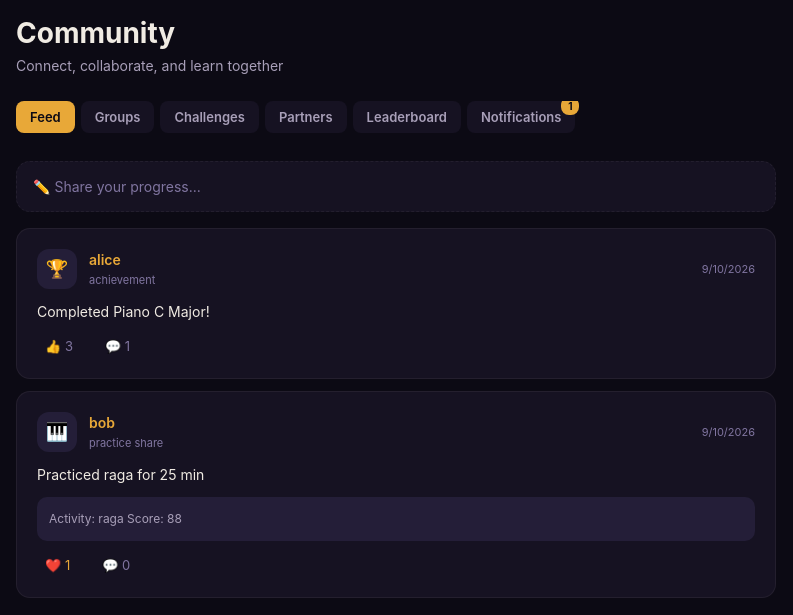
Test: Community Page › switches to challenges tab
expect the heading "Community" is shown: met, box [16, 16, 175, 50]
Click the button "Challenges" at [210, 117], box [160, 101, 259, 133]
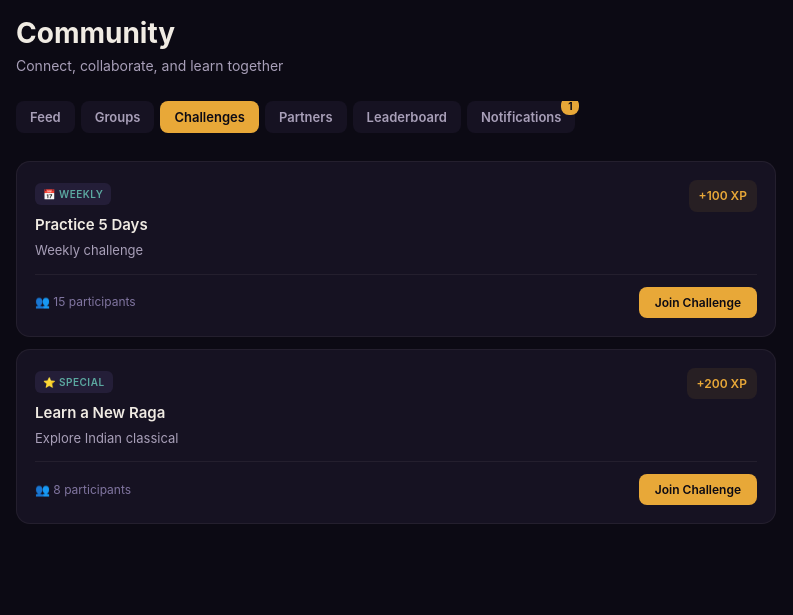
expect the text "Practice 5 Days" is shown: met, box [35, 213, 148, 237]
expect the text "+100 XP" is shown: met, box [689, 180, 757, 212]
